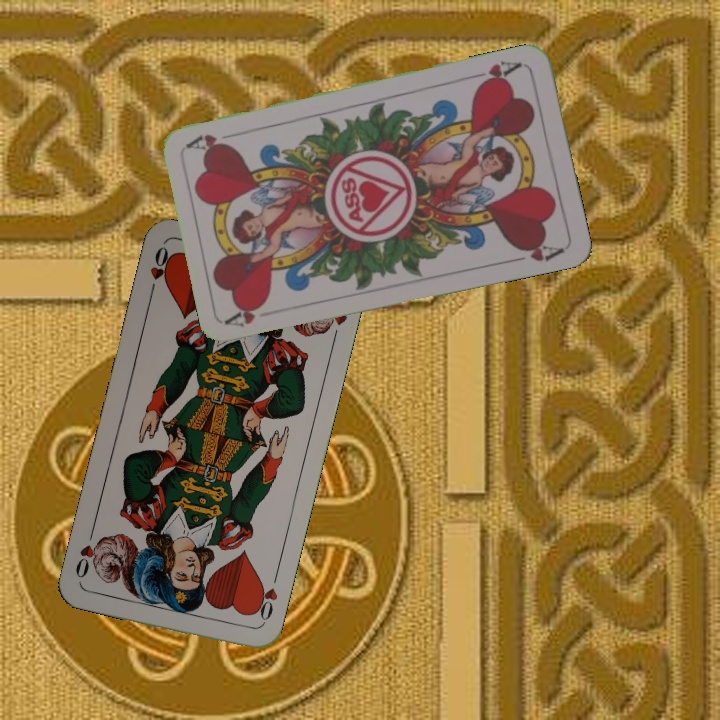HA: (467, 56, 524, 90), (224, 299, 268, 330)
HO: (249, 570, 281, 628), (145, 242, 176, 301)
